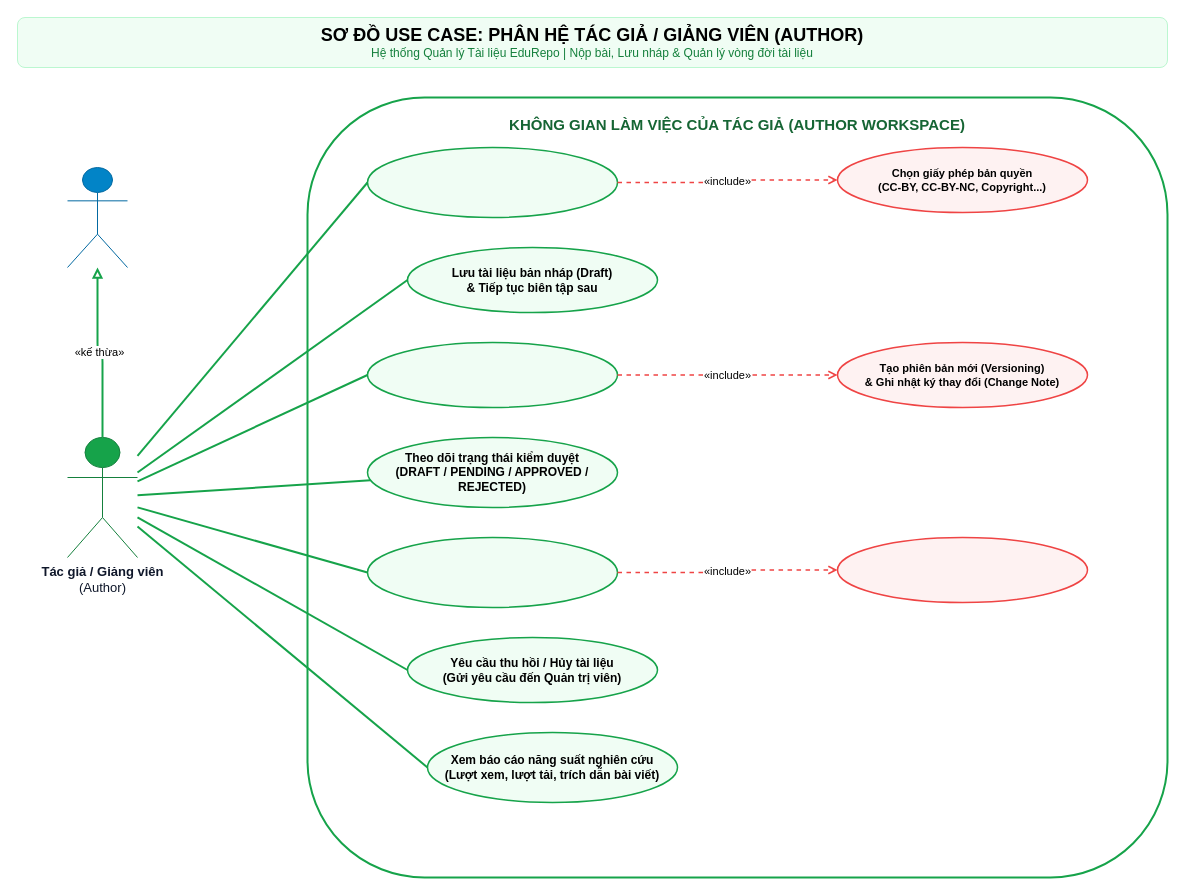
Some shapes in this 1186 by 896 pixel diagram are drawn without their labels. Here are the shapes that lost their labels. From the top down, the centre of each, then its label:
(x=492, y=182): Nộp tài liệu mới (Khai báo Metadata, Đồng tác giả & File)
(x=97, y=217): Người đọc (Reader)
(x=492, y=374): Chỉnh sửa tài liệu đã nộp (Cập nhật thông tin & Upload file mới)
(x=492, y=572): Xem phản hồi & Yêu cầu chỉnh sửa từ Người kiểm duyệt (Reviewer)
(x=962, y=569): Nhận thông báo trạng thái bài nộp (Email & Thông báo hệ thống)
